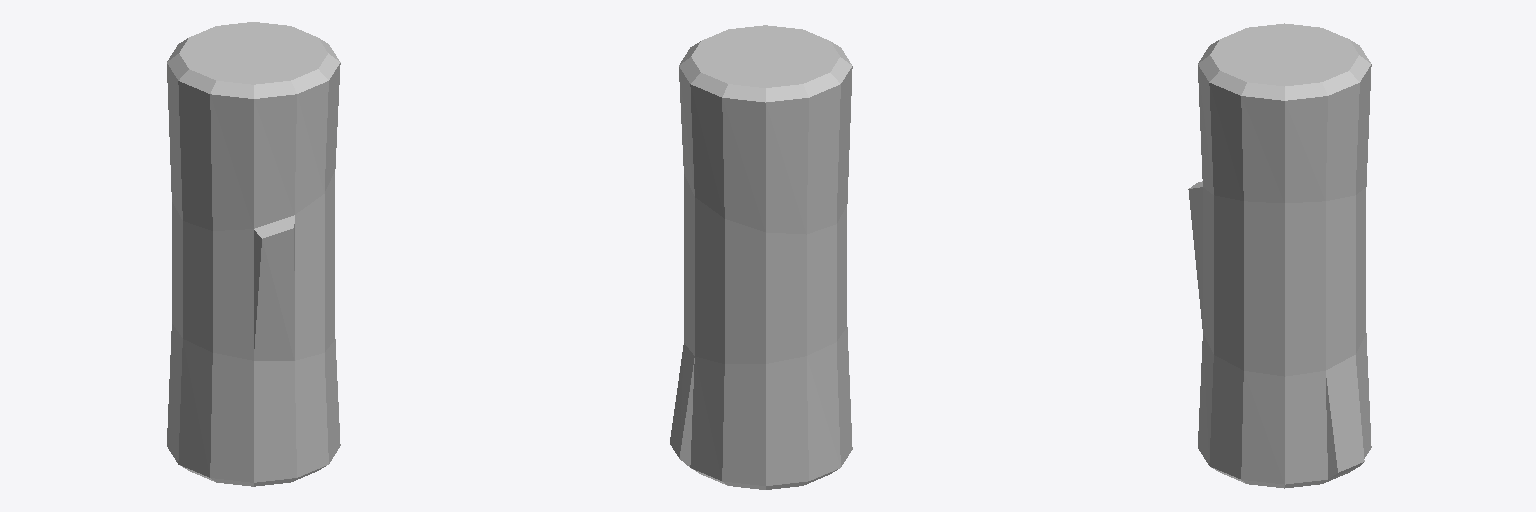
The model's file is log_B.obj.
3 views of the same model, side by side, from view 1: azimuth 30°, elevation 25°; view 2: azimuth 150°, elevation 25°; view 3: azimuth 270°, elevation 25° (orthographic).
Parts seen in each view (by area): view 1: log_B_Cylinder.062; view 2: log_B_Cylinder.062; view 3: log_B_Cylinder.062.
Part boxes in pixels (left/top/right/bottom): log_B_Cylinder.062: left=167, top=22, right=340, bottom=486; log_B_Cylinder.062: left=670, top=25, right=852, bottom=489; log_B_Cylinder.062: left=1188, top=23, right=1371, bottom=488.
Size of the model in its own units: 0.4185 by 1.07 by 0.441.